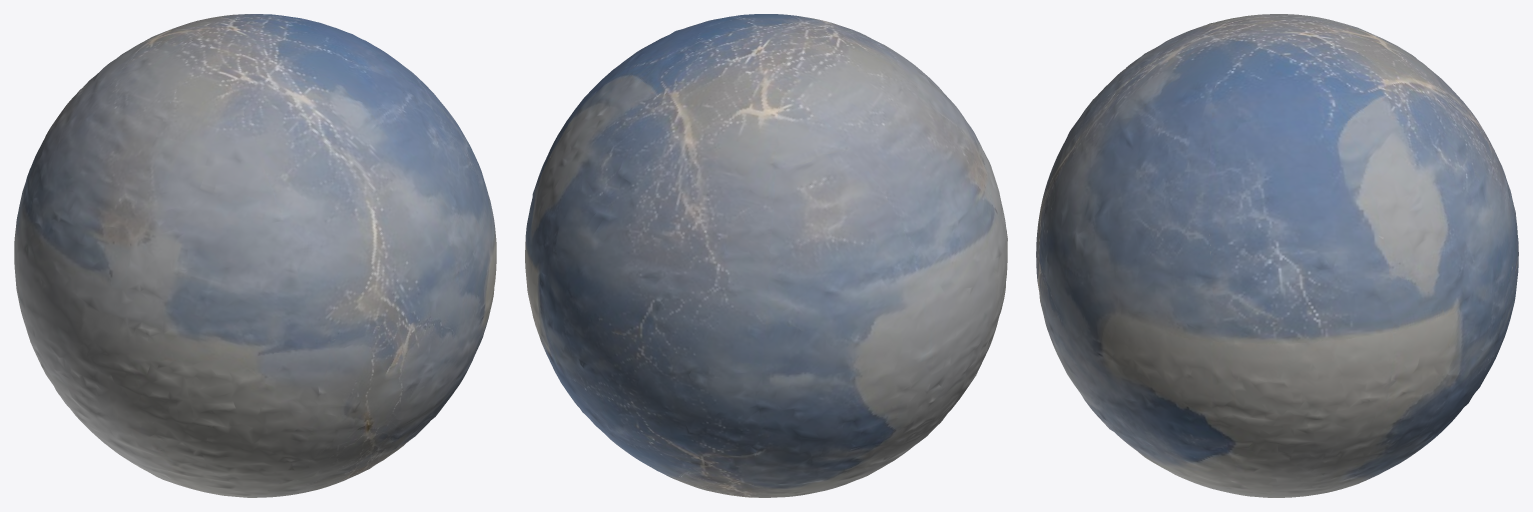
File: cinematic-storm-sphere.glb
3 renders of one model, left to right at view 1: azimuth 30°, elevation 25°; view 2: azimuth 150°, elevation 25°; view 3: azimuth 270°, elevation 25°, orthographic.
Parts seen in each view (by area): view 1: tripo_node_38c8cc3b-7251-4d0c-9a43-b8fa8c489f6c; view 2: tripo_node_38c8cc3b-7251-4d0c-9a43-b8fa8c489f6c; view 3: tripo_node_38c8cc3b-7251-4d0c-9a43-b8fa8c489f6c.
Boxes of the visible parts, left/top/right/bottom form: tripo_node_38c8cc3b-7251-4d0c-9a43-b8fa8c489f6c: left=14, top=14, right=496, bottom=497; tripo_node_38c8cc3b-7251-4d0c-9a43-b8fa8c489f6c: left=525, top=14, right=1007, bottom=497; tripo_node_38c8cc3b-7251-4d0c-9a43-b8fa8c489f6c: left=1036, top=14, right=1518, bottom=497.
Size of the model in its own units: 0.9911 by 0.9999 by 0.9922.
1 material, 1 textured.
